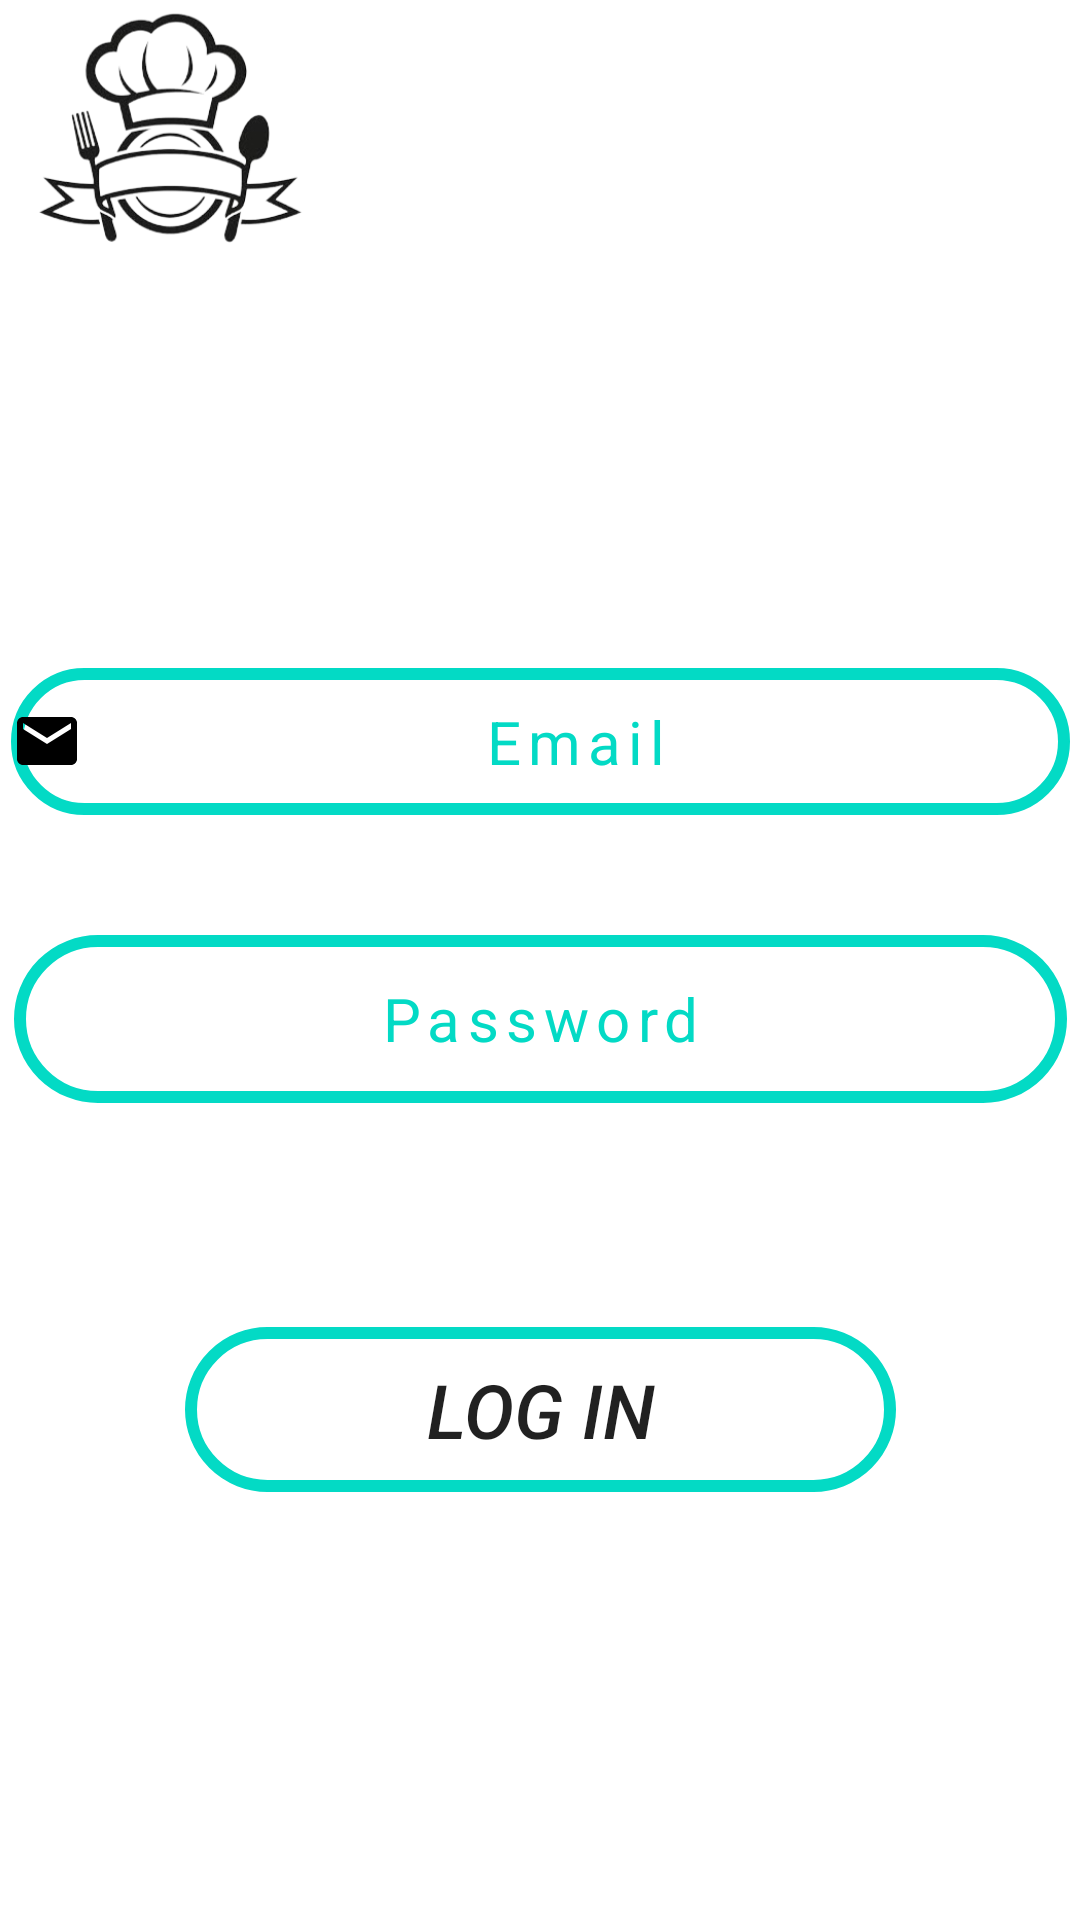

Locate icon controls on the screen. Image size 1080px x 1920px, boxes as (x1, y1, x2, y2).
food: (39, 13, 301, 242)
